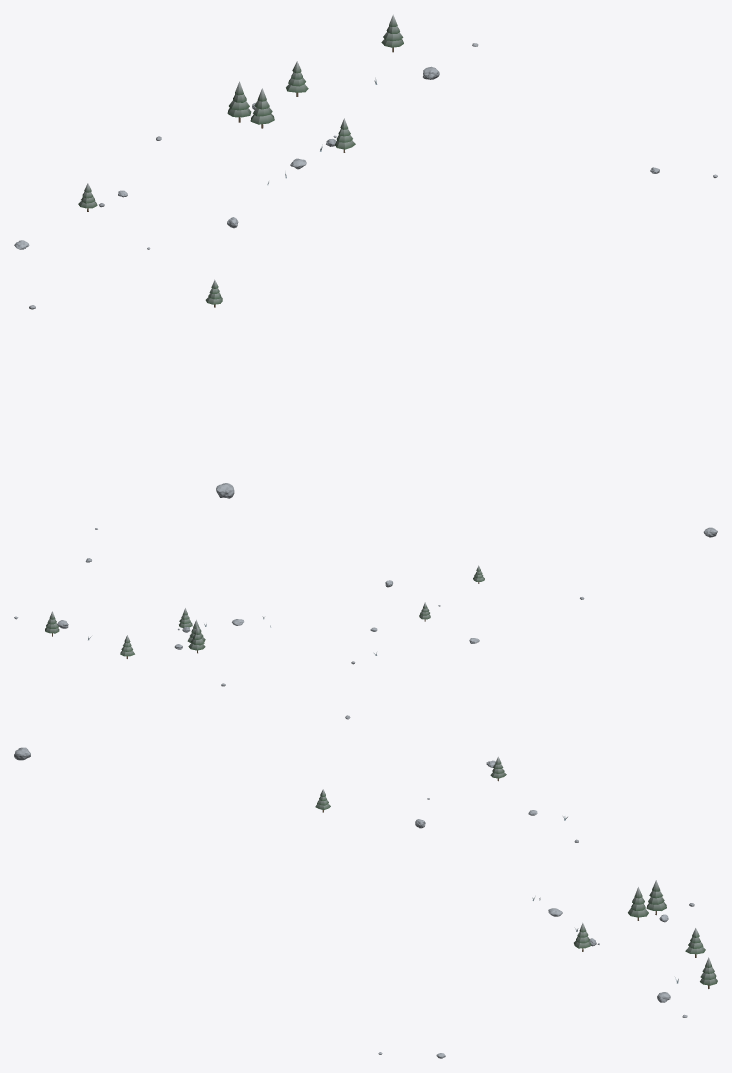
The model's file is frost_land_scatter_c17_11.glb.
3 views of the same model, one above another, from view 1: azimuth 30°, elevation 25°; view 2: azimuth 150°, elevation 25°; view 3: azimuth 270°, elevation 25° (orthographic). The views are drawn at different scales.
Parts seen in each view (by area): view 1: frost_land_scatter_c17_11; view 2: frost_land_scatter_c17_11; view 3: frost_land_scatter_c17_11.
Part boxes in pixels (x1,y1,x2,y2): frost_land_scatter_c17_11: (14, 14, 717, 498); frost_land_scatter_c17_11: (14, 527, 717, 686); frost_land_scatter_c17_11: (14, 715, 717, 1058).
Size of the model in its own units: 251 by 32.32 by 254.
